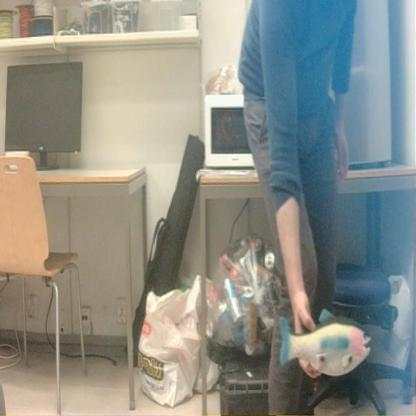rubberfish: (274, 313, 375, 383)
